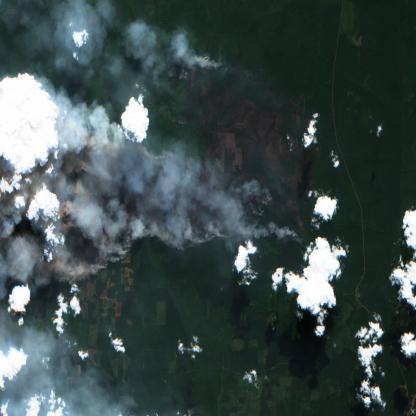fire: (59, 120, 302, 289), (175, 51, 224, 120)
